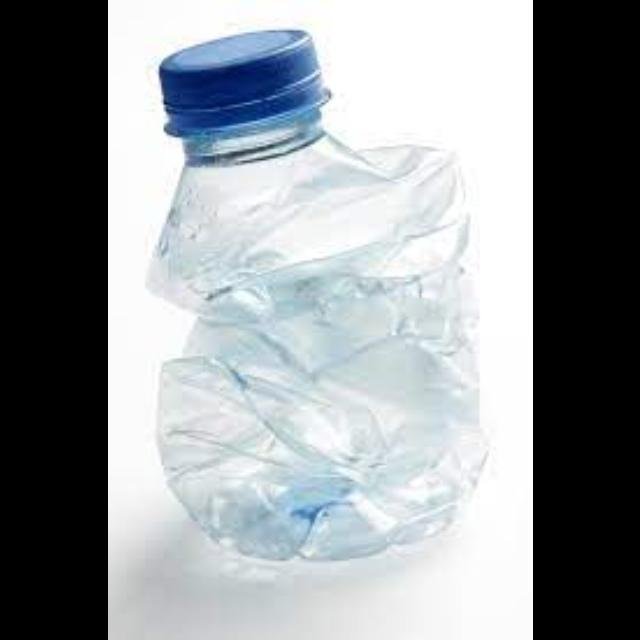trash: (142, 20, 502, 572)
